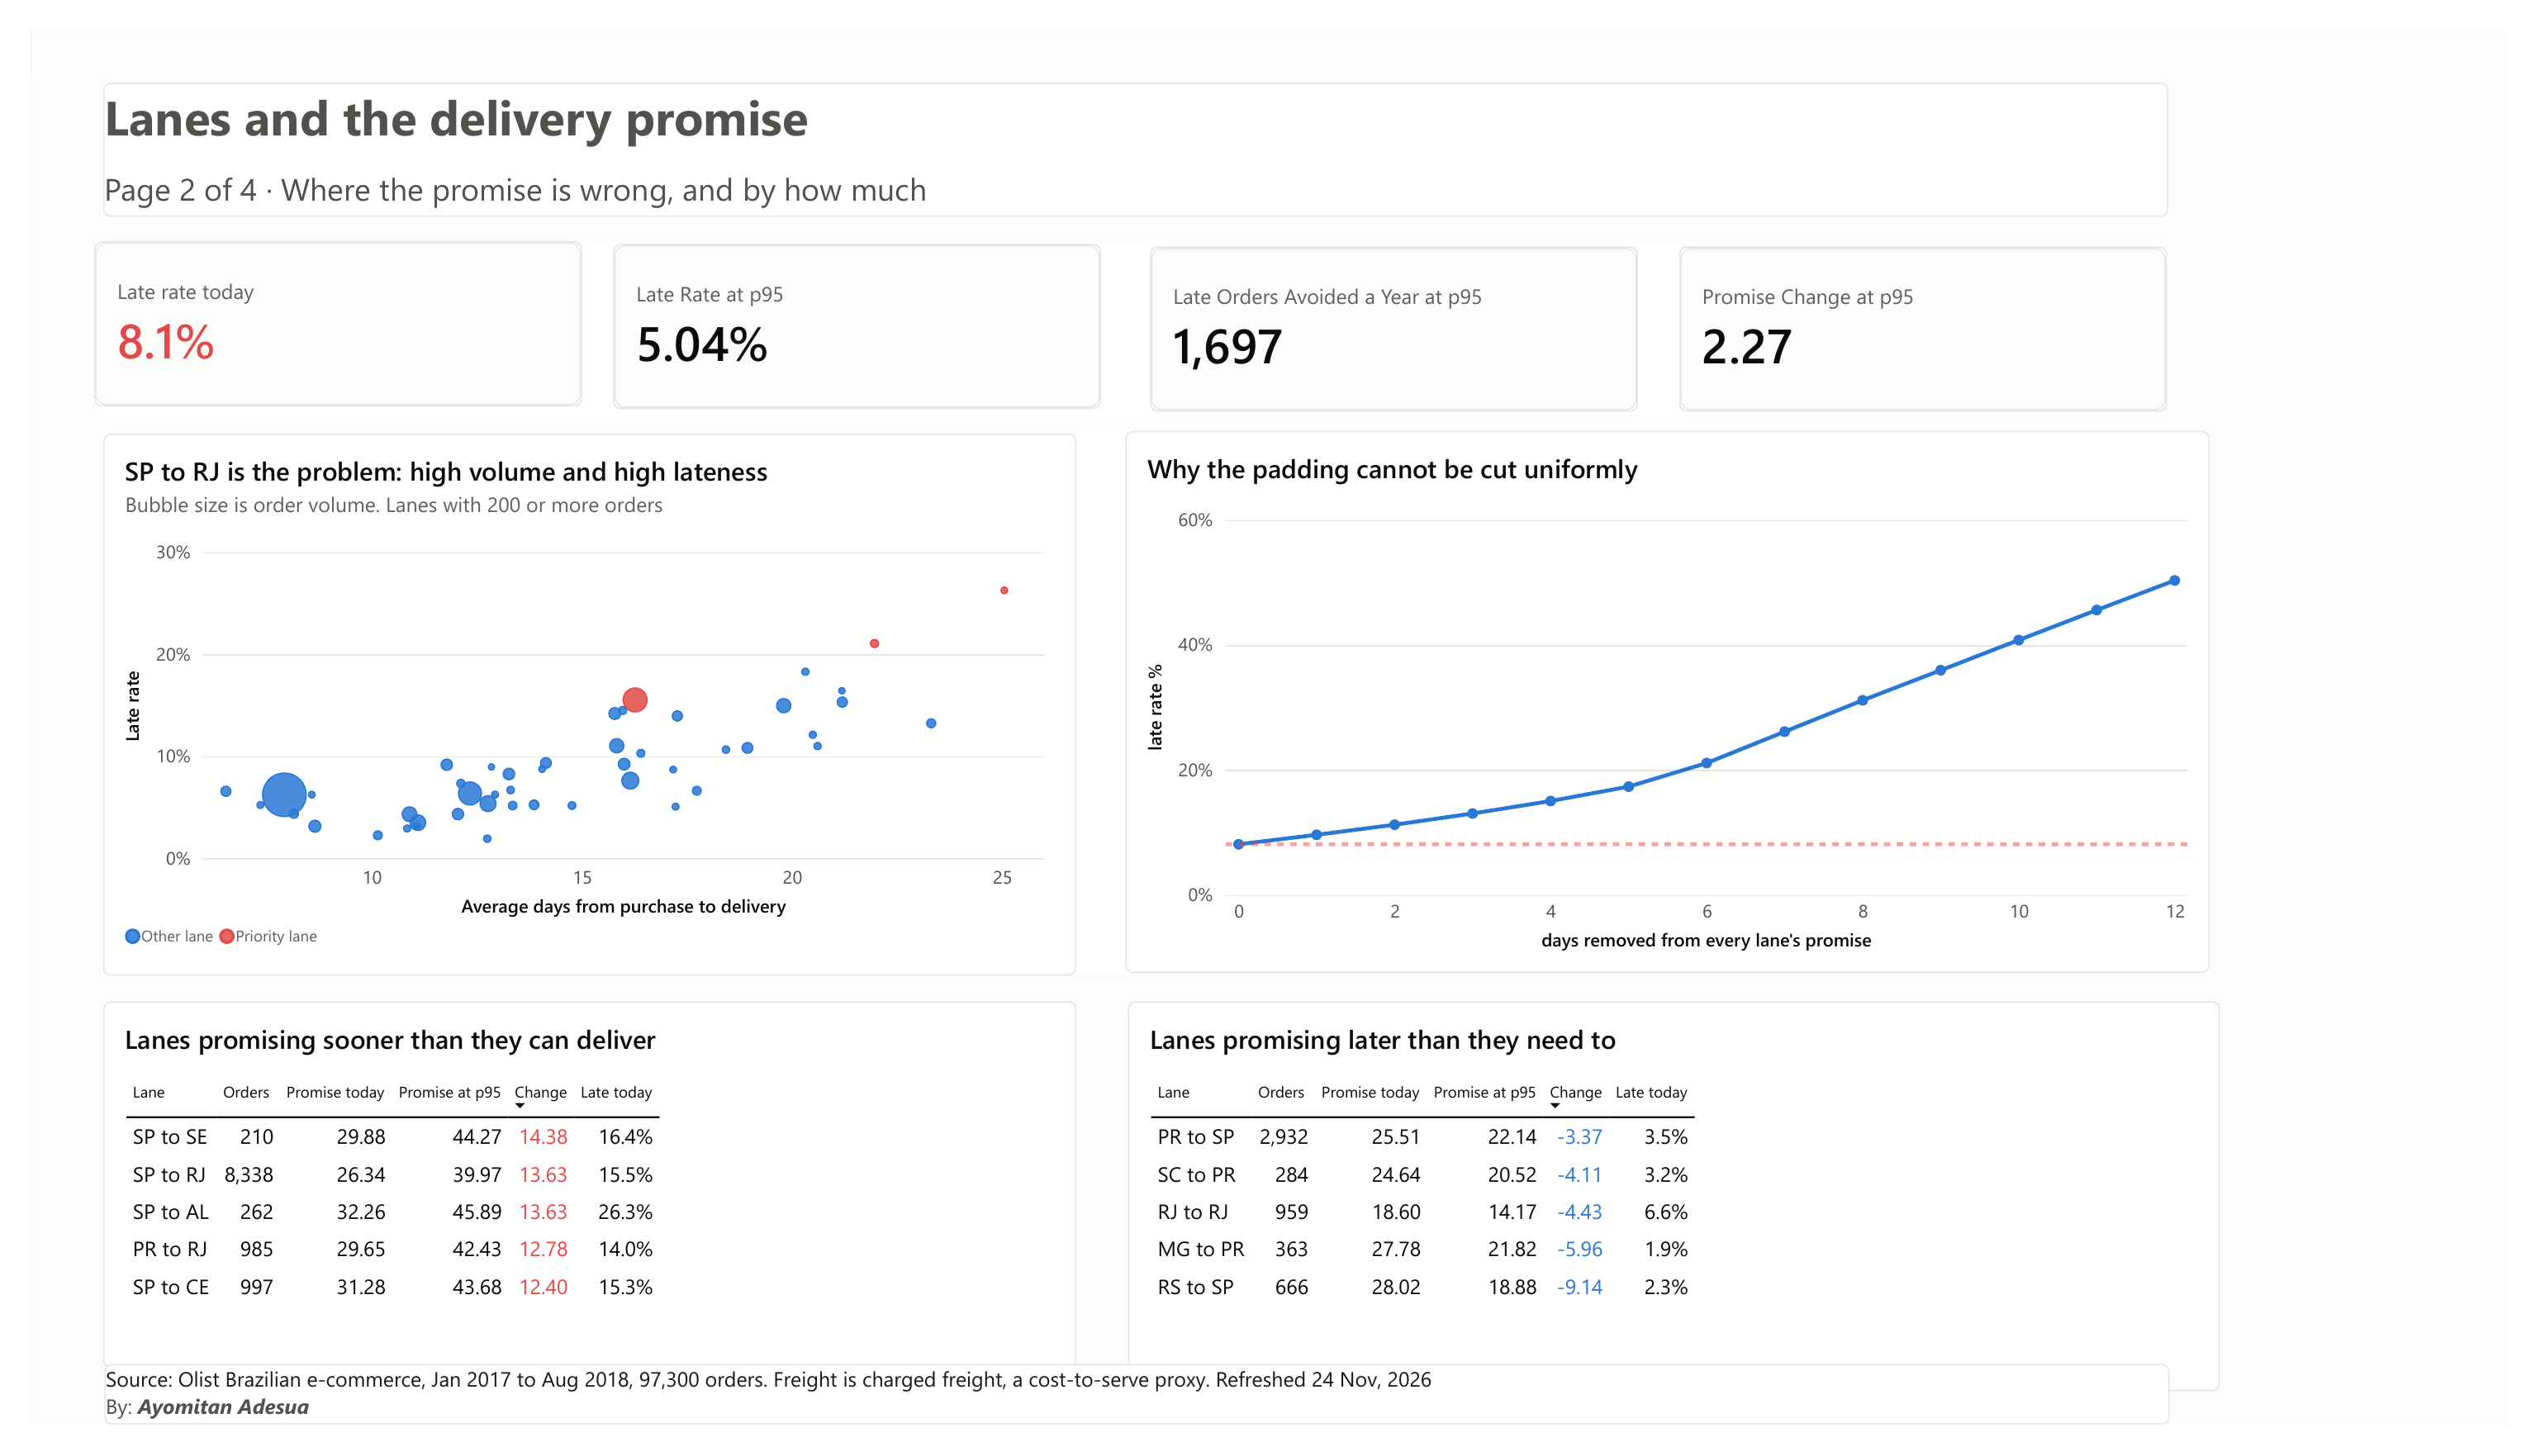

The page's visual inventory and layout, read from the dashboard file:
{"tool":"powerbi","page":{"name":"Lanes and the delivery promise","canvas":[1920,1080],"ordinal":1},"visuals":[{"type":"cardVisual","fields":{"Data":["fact_orders.Late Rate at p95"]},"box":[450.9,165.3,378.1,128.2],"z":0,"group":"g1"},{"type":"tableEx","title":"Lanes promising sooner than they can deliver","fields":{"Values":["fact_orders.lane","fact_orders.Total Orders","LaneDetail.cur_promise","LaneDetail.p95","LaneDetail.promise_change","LaneDetail.cur_late"]},"box":[56,752,754,284],"z":0},{"type":"cardVisual","fields":{"Data":["fact_orders.Late Rate"]},"box":[48.8,163.5,378.1,128.2],"z":1000,"group":"g1"},{"type":"tableEx","title":"Lanes promising later than they need to","fields":{"Values":["fact_orders.lane","fact_orders.Total Orders","LaneDetail.cur_promise","LaneDetail.p95","LaneDetail.promise_change","LaneDetail.cur_late"]},"box":[850,752,846,302],"z":1000},{"type":"textbox","box":[56,40,1600,104],"z":2000},{"type":"cardVisual","fields":{"Data":["fact_orders.Late Orders Avoided a Year at p95"]},"box":[867,167,378.1,128.2],"z":2000,"group":"g1"},{"type":"group","id":"g1","title":"Group 1","box":[48.8,163.5,1605.4,134.2],"z":3000},{"type":"cardVisual","fields":{"Data":["fact_orders.Promise Change at p95"]},"box":[1277.1,167,378.1,128.2],"z":3000,"group":"g1"},{"type":"group","id":"g2","title":"Group 2","box":[56,310,1632,422],"z":4000},{"type":"scatterChart","title":"SP to RJ is the problem: high volume and high lateness","fields":{"Category":["LaneDetail.lane"],"Series":["LaneDetail.lane_focus"],"Size":["Sum(LaneDetail.orders)"],"X":["LaneDetail.avg_days"],"Y":["LaneDetail.cur_late"]},"box":[56,312,754,420],"z":4000,"group":"g2"},{"type":"lineChart","title":"Why the padding cannot be cut uniformly","fields":{"Category":["PromiseCurve.days_removed"],"Y":["Sum(PromiseCurve.late_rate)"]},"box":[848,310,840,420],"z":5000,"group":"g2"},{"type":"textbox","box":[56.7,1033.3,1600,46.7],"z":5000}]}

Visuals, with their boxes on the page's 1920x1080 design canvas (x1, y1, x2, y2). These are canvas units, not pixel positions in the 2540x1456 screenshot, which may show the page scaled, cropped or inside an application window:
cardVisual - fact_orders.Late Rate at p95: select_region(451, 165, 829, 294)
"Lanes promising sooner than they can deliver" tableEx: select_region(56, 752, 810, 1036)
cardVisual - fact_orders.Late Rate: select_region(49, 164, 427, 292)
"Lanes promising later than they need to" tableEx: select_region(850, 752, 1696, 1054)
textbox: select_region(56, 40, 1656, 144)
cardVisual - fact_orders.Late Orders Avoided a Year at p95: select_region(867, 167, 1245, 295)
"Group 1" group: select_region(49, 164, 1654, 298)
cardVisual - fact_orders.Promise Change at p95: select_region(1277, 167, 1655, 295)
"Group 2" group: select_region(56, 310, 1688, 732)
"SP to RJ is the problem: high volume and high lateness" scatterChart: select_region(56, 312, 810, 732)
"Why the padding cannot be cut uniformly" lineChart: select_region(848, 310, 1688, 730)
textbox: select_region(57, 1033, 1657, 1080)
